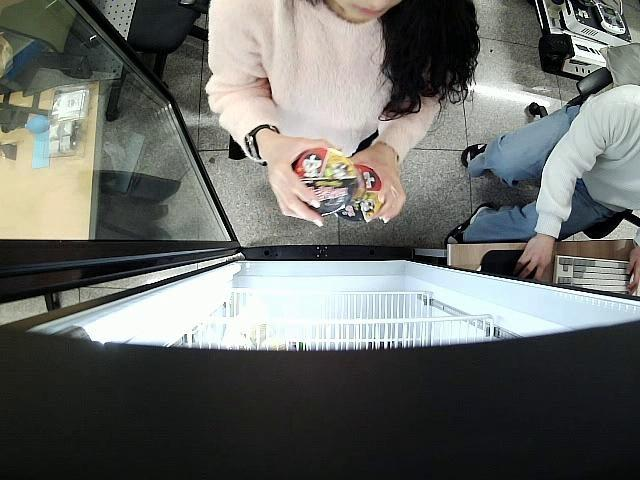08_buldak_S: (292, 147, 356, 214), (338, 165, 383, 222)
